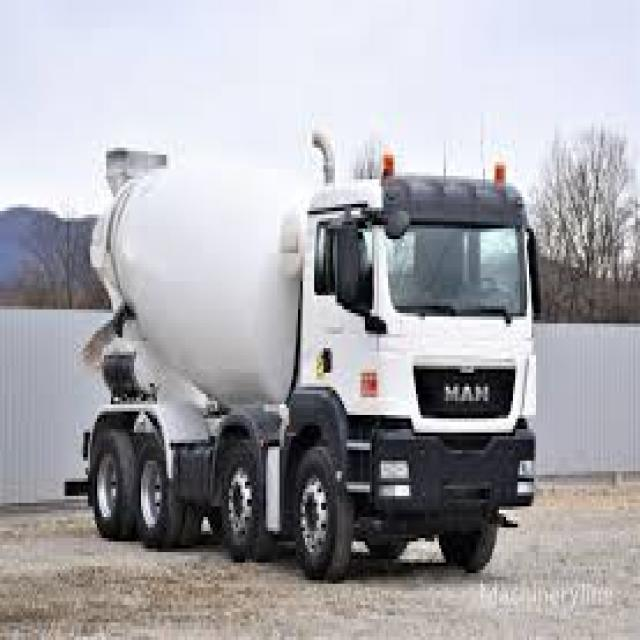Mixer Truck: (61, 143, 545, 586)
